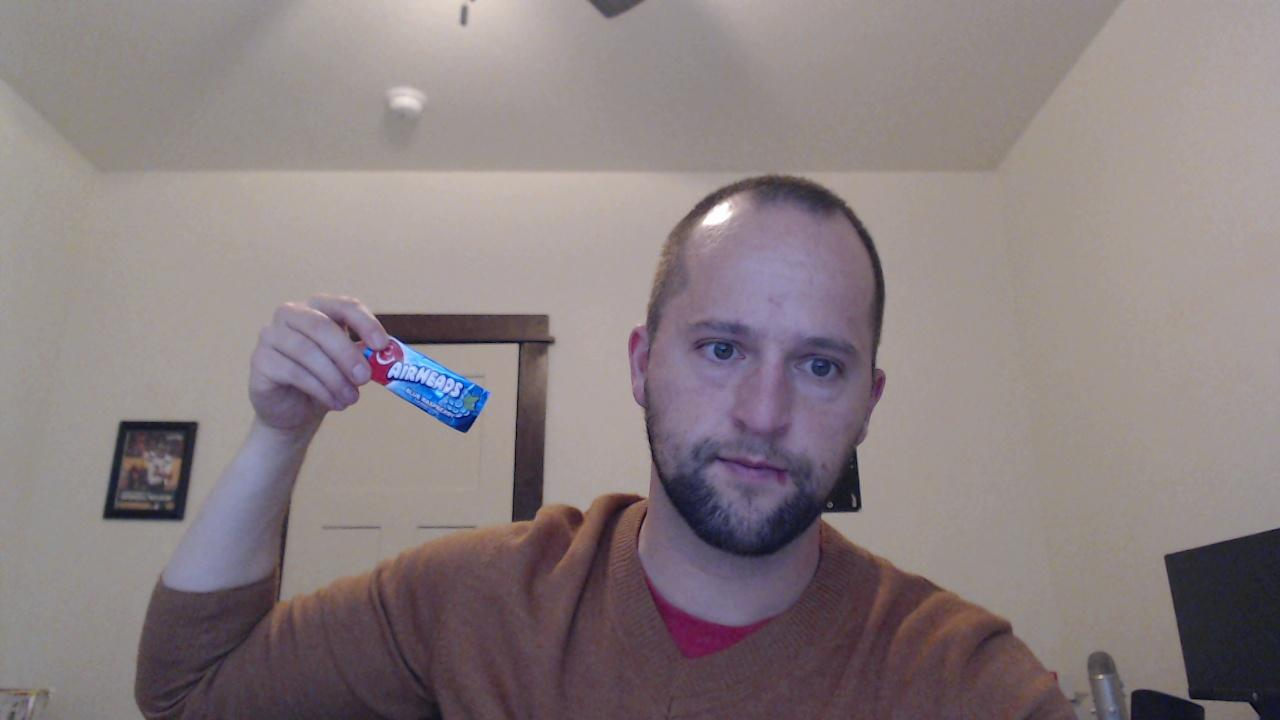airheads: (359, 335, 493, 432)
